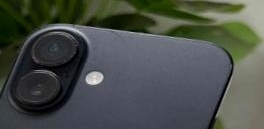scratch: (66, 7, 138, 73)
